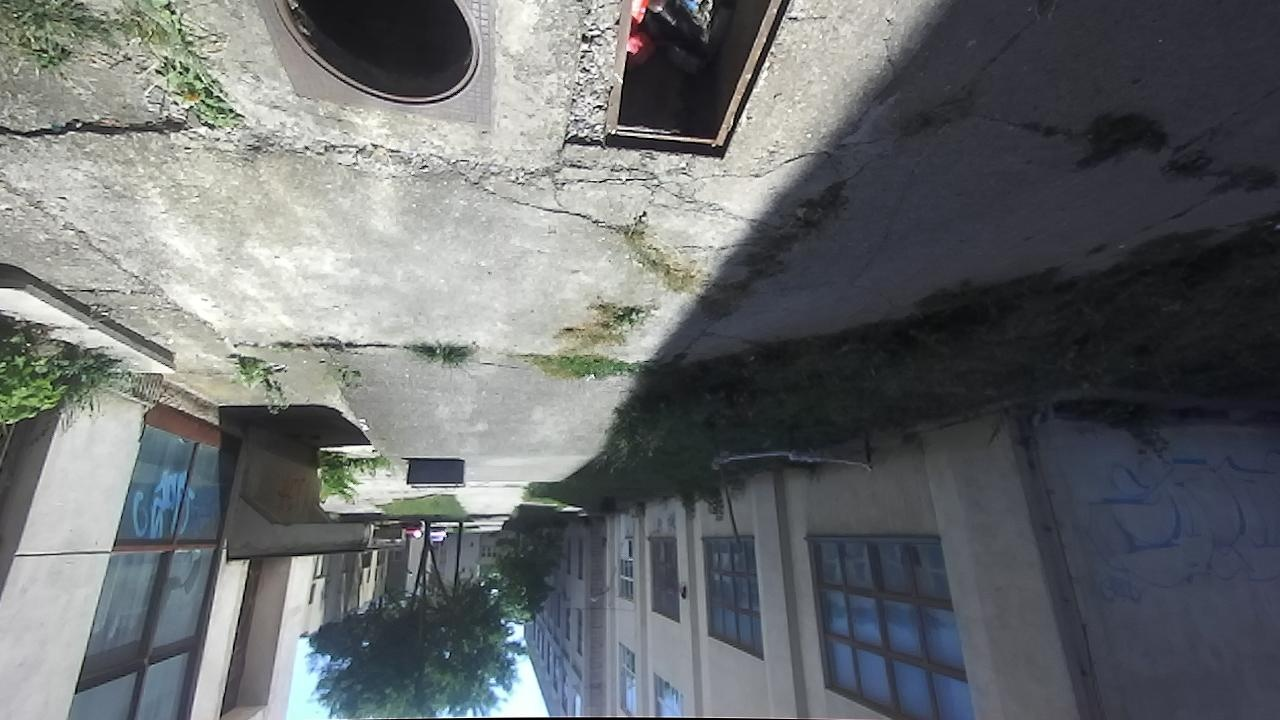drain: (567, 0, 781, 162), (273, 0, 478, 106)
